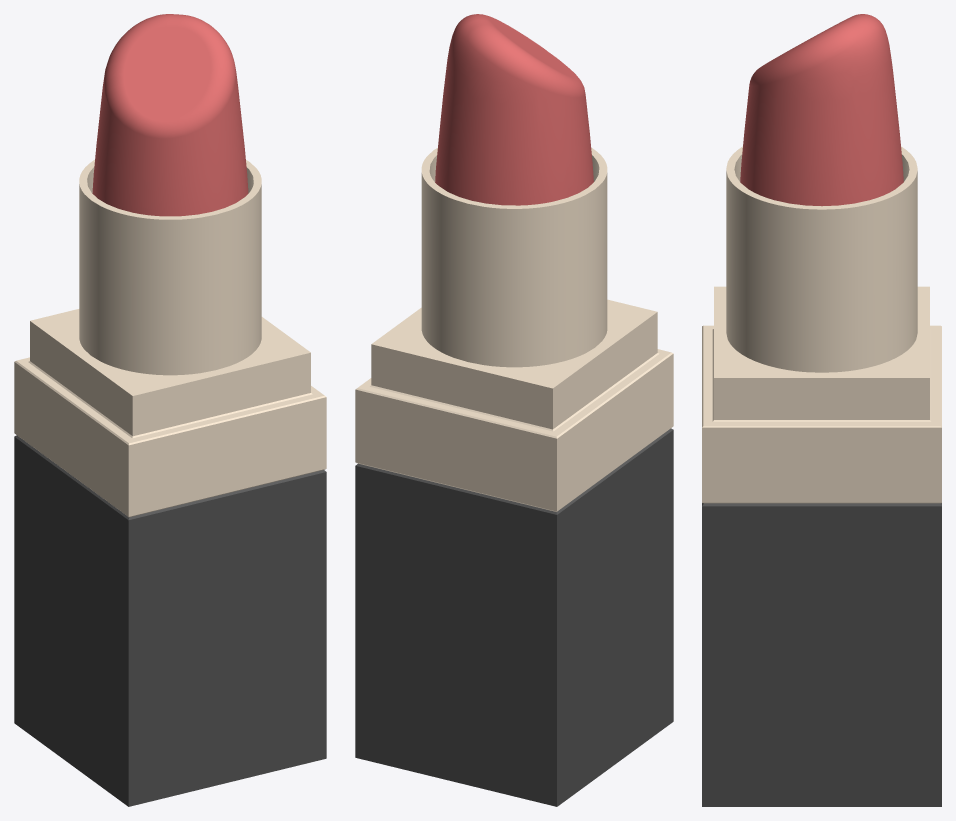
Rendered from 955_lipstick_open.glb.
3 renders of one model, left to right at view 1: azimuth 30°, elevation 25°; view 2: azimuth 150°, elevation 25°; view 3: azimuth 270°, elevation 25°, orthographic. The views are drawn at different scales.
Visible parts, largest first — view 1: Body, lip; view 2: Body, lip; view 3: Body, lip.
Boxes of the visible parts, left/top/right/bottom form: Body: left=14, top=160, right=326, bottom=806; lip: left=92, top=14, right=248, bottom=216; Body: left=355, top=148, right=673, bottom=806; lip: left=435, top=14, right=593, bottom=205; Body: left=702, top=146, right=941, bottom=806; lip: left=740, top=14, right=903, bottom=206.
Bounding box in the file's own units: 0.02 × 0.0685 × 0.02.
